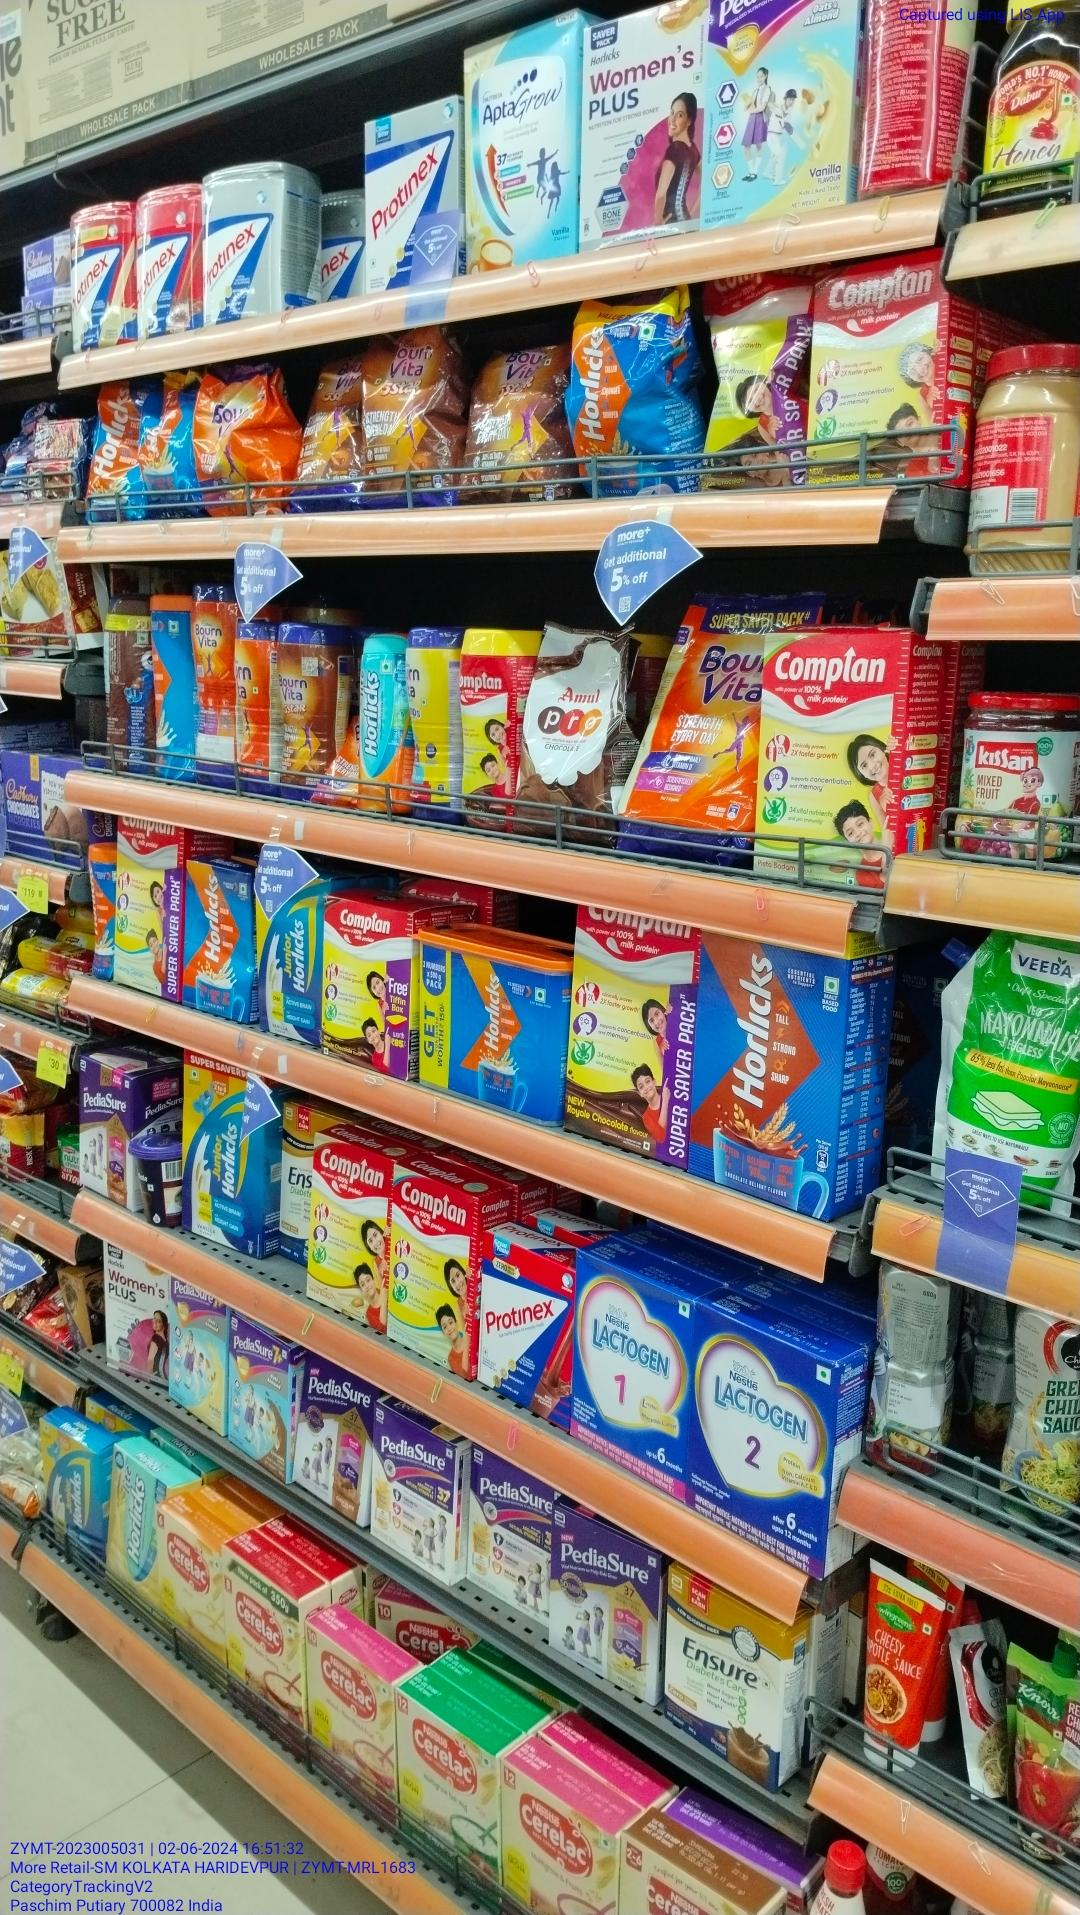HORLICKS_LITE_REGULAR_MALT_500_GM_JAR: (362, 635, 409, 813)
HORLICK_MALT_1_KG_CONTAINER: (422, 934, 560, 1132)
PEDIASURE_7_PLUS_CHOCOLATE_400_G_PACK: (230, 1328, 288, 1473)
PEDIASURE_CHOCOLATE_500_G_PACK: (303, 1369, 367, 1520), (74, 1063, 138, 1202)
PEDIASURE_VANILLA_500_G_PACK: (545, 1538, 656, 1693), (166, 1297, 229, 1431)
PROTINEX_CHOCOLATE_400_G_JAR: (139, 197, 196, 329)
PROTINEX_ORIGINAL_400_G_JAR: (203, 166, 289, 329)
PROTINEX_VANILLA_400_G_JAR: (72, 199, 133, 354)
